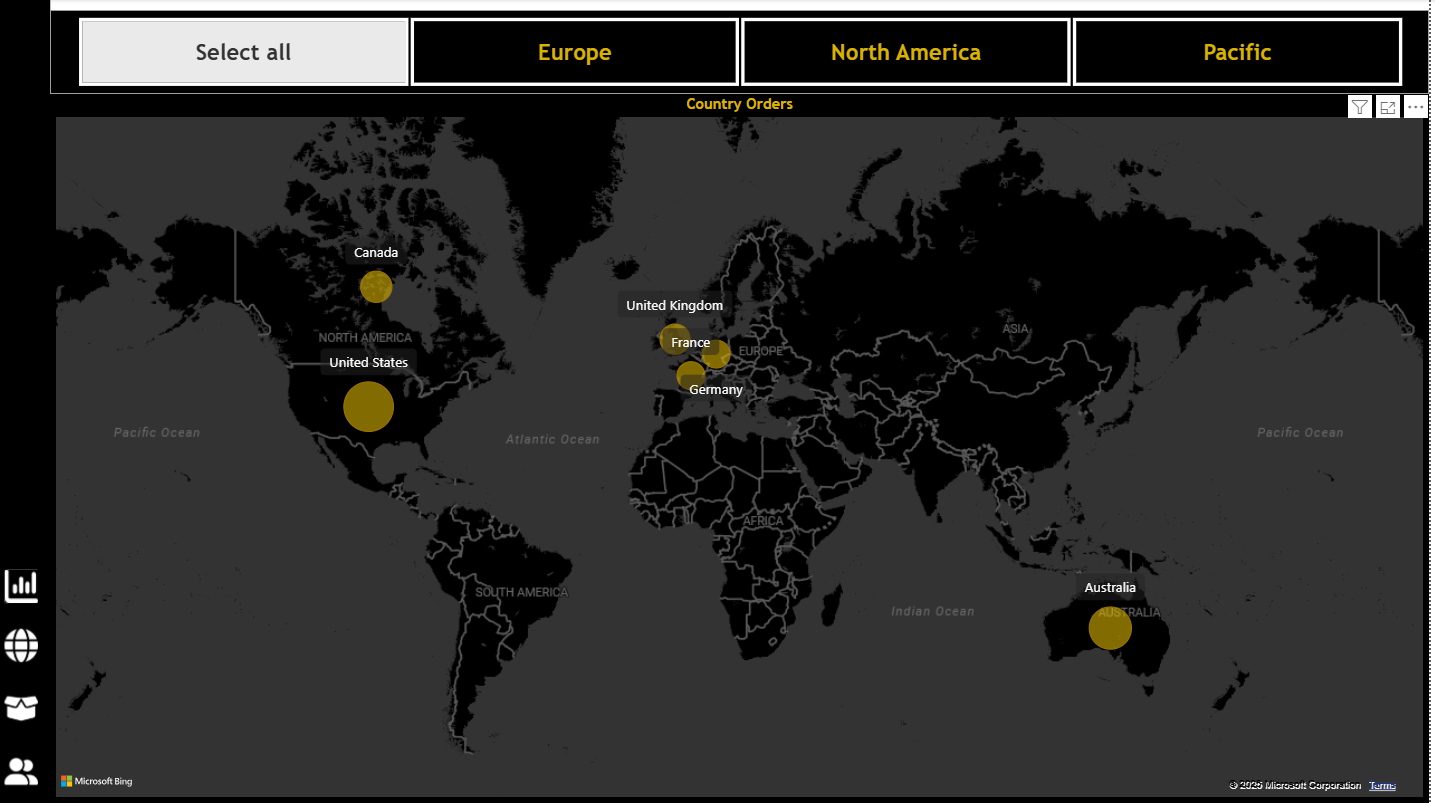

This screenshot's page, from the dashboard's own definition file:
{"tool":"powerbi","page":{"name":"Map","canvas":[1280,720],"ordinal":1},"visuals":[{"type":"shape","box":[0,0,45,720],"z":0},{"type":"actionButton","box":[0,557.9,44.8,43],"z":0,"group":"g1"},{"type":"actionButton","box":[0,505.1,44.8,43],"z":1000,"group":"g1"},{"type":"map","title":"Country Orders","fields":{"Size":["Measure Table.Total Orders"],"Category":["Territory Lookup.Country"]},"box":[44.8,85.1,1234.9,634.9],"z":1000},{"type":"slicer","fields":{"Values":["Territory Lookup.Continent"]},"box":[44.8,9.9,1234.9,75.2],"z":2000},{"type":"actionButton","box":[0,614.4,44.8,43],"z":2000,"group":"g1"},{"type":"actionButton","box":[0,670.8,44.8,43],"z":3000,"group":"g1"},{"type":"group","id":"g1","title":"Buttons","box":[0,505.1,44.8,208.7],"z":3000}]}

Visuals, with their boxes on the page's 1280x720 design canvas (x1, y1, x2, y2). These are canvas units, not pixel positions in the 1435x803 screenshot, which may show the page scaled, cropped or inside an application window:
shape: [left=0, top=0, right=45, bottom=720]
actionButton: [left=0, top=558, right=45, bottom=601]
actionButton: [left=0, top=505, right=45, bottom=548]
"Country Orders" map: [left=45, top=85, right=1280, bottom=720]
slicer - Territory Lookup.Continent: [left=45, top=10, right=1280, bottom=85]
actionButton: [left=0, top=614, right=45, bottom=657]
actionButton: [left=0, top=671, right=45, bottom=714]
"Buttons" group: [left=0, top=505, right=45, bottom=714]
